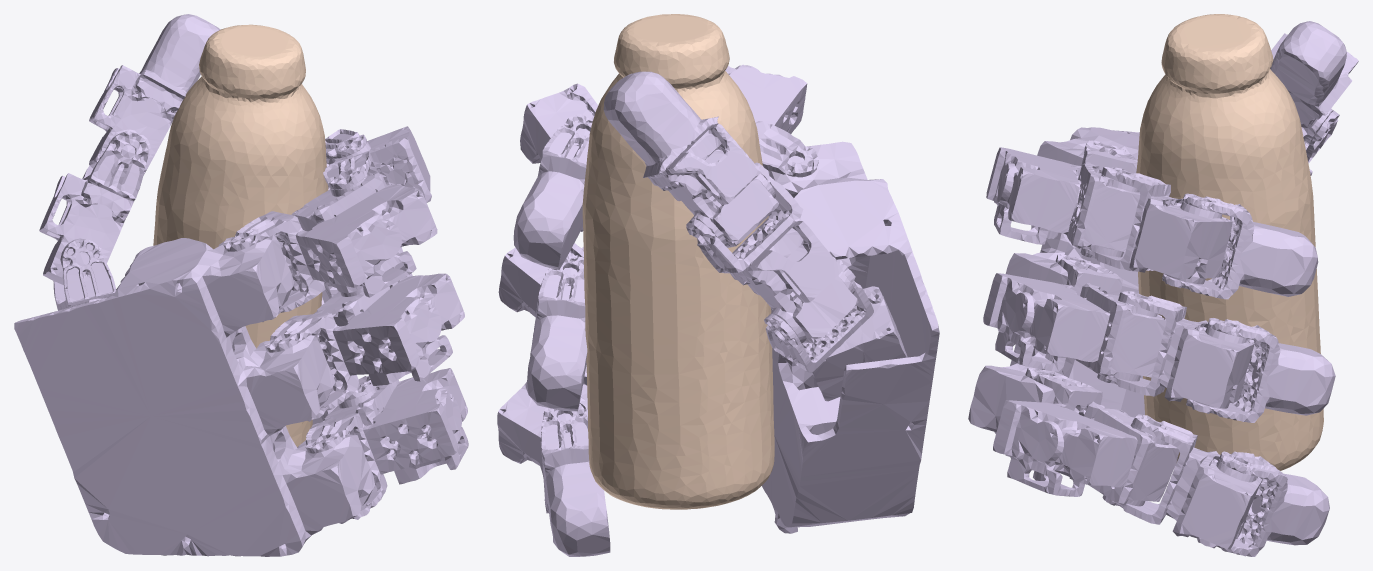
The picture shows the model from 3 angles, left to right: view 1: azimuth 30°, elevation 25°; view 2: azimuth 150°, elevation 25°; view 3: azimuth 270°, elevation 25°; orthographic projection. The views are drawn at different scales.
Parts seen in each view (by area): view 1: LEAP_hand, world; view 2: LEAP_hand, world; view 3: LEAP_hand, world.
Boxes of the visible parts, x1=… form: LEAP_hand: x1=14, y1=14, x2=468, y2=556; world: x1=153, y1=24, x2=328, y2=447; LEAP_hand: x1=497, y1=64, x2=939, y2=556; world: x1=582, y1=14, x2=774, y2=509; LEAP_hand: x1=968, y1=21, x2=1358, y2=556; world: x1=1136, y1=14, x2=1323, y2=470.
Bounding box in the file's own units: 0.1839 × 0.2055 × 0.1491.
